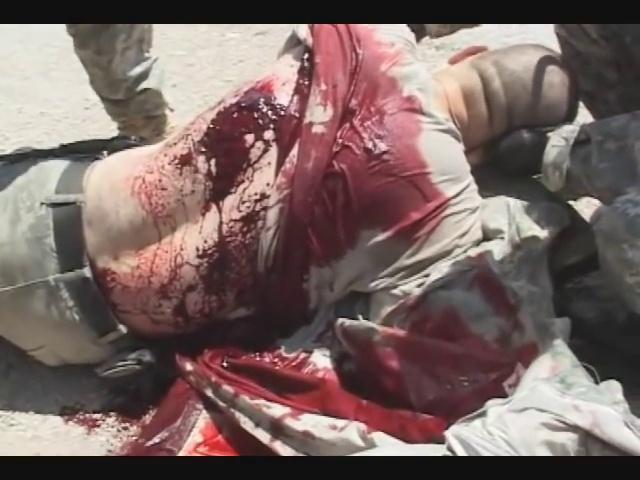Fire: (100, 25, 450, 334), (335, 254, 540, 422), (197, 349, 449, 444), (176, 355, 376, 456), (60, 368, 273, 456), (138, 379, 199, 444)
